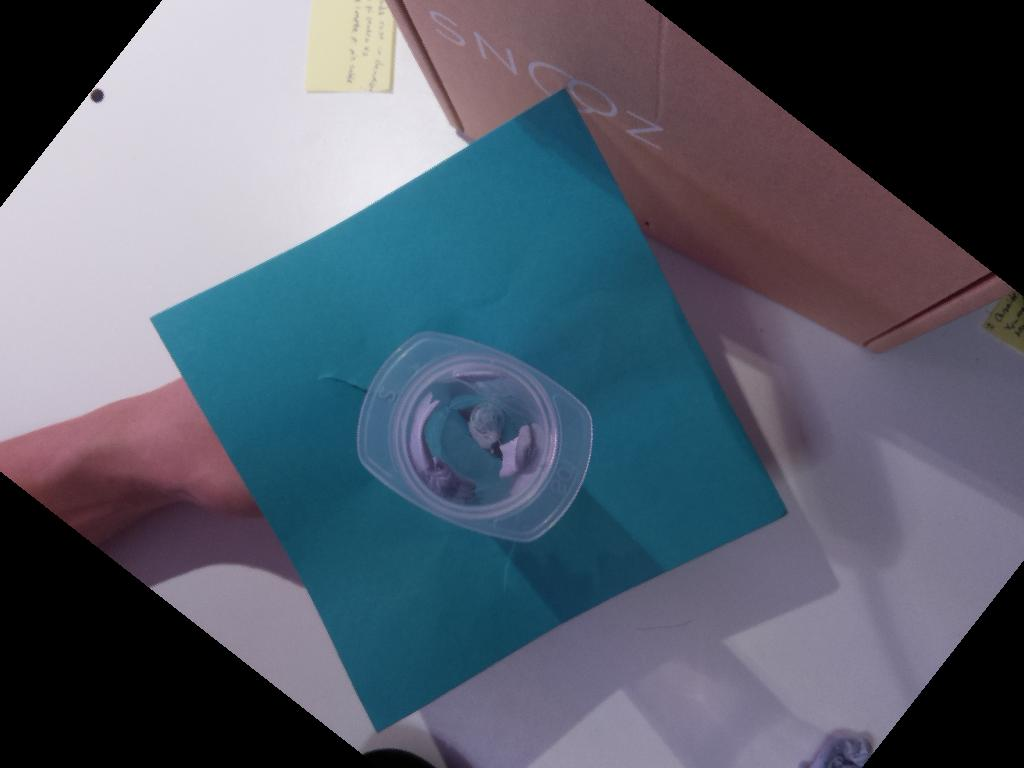dirty: (344, 323, 601, 552)
